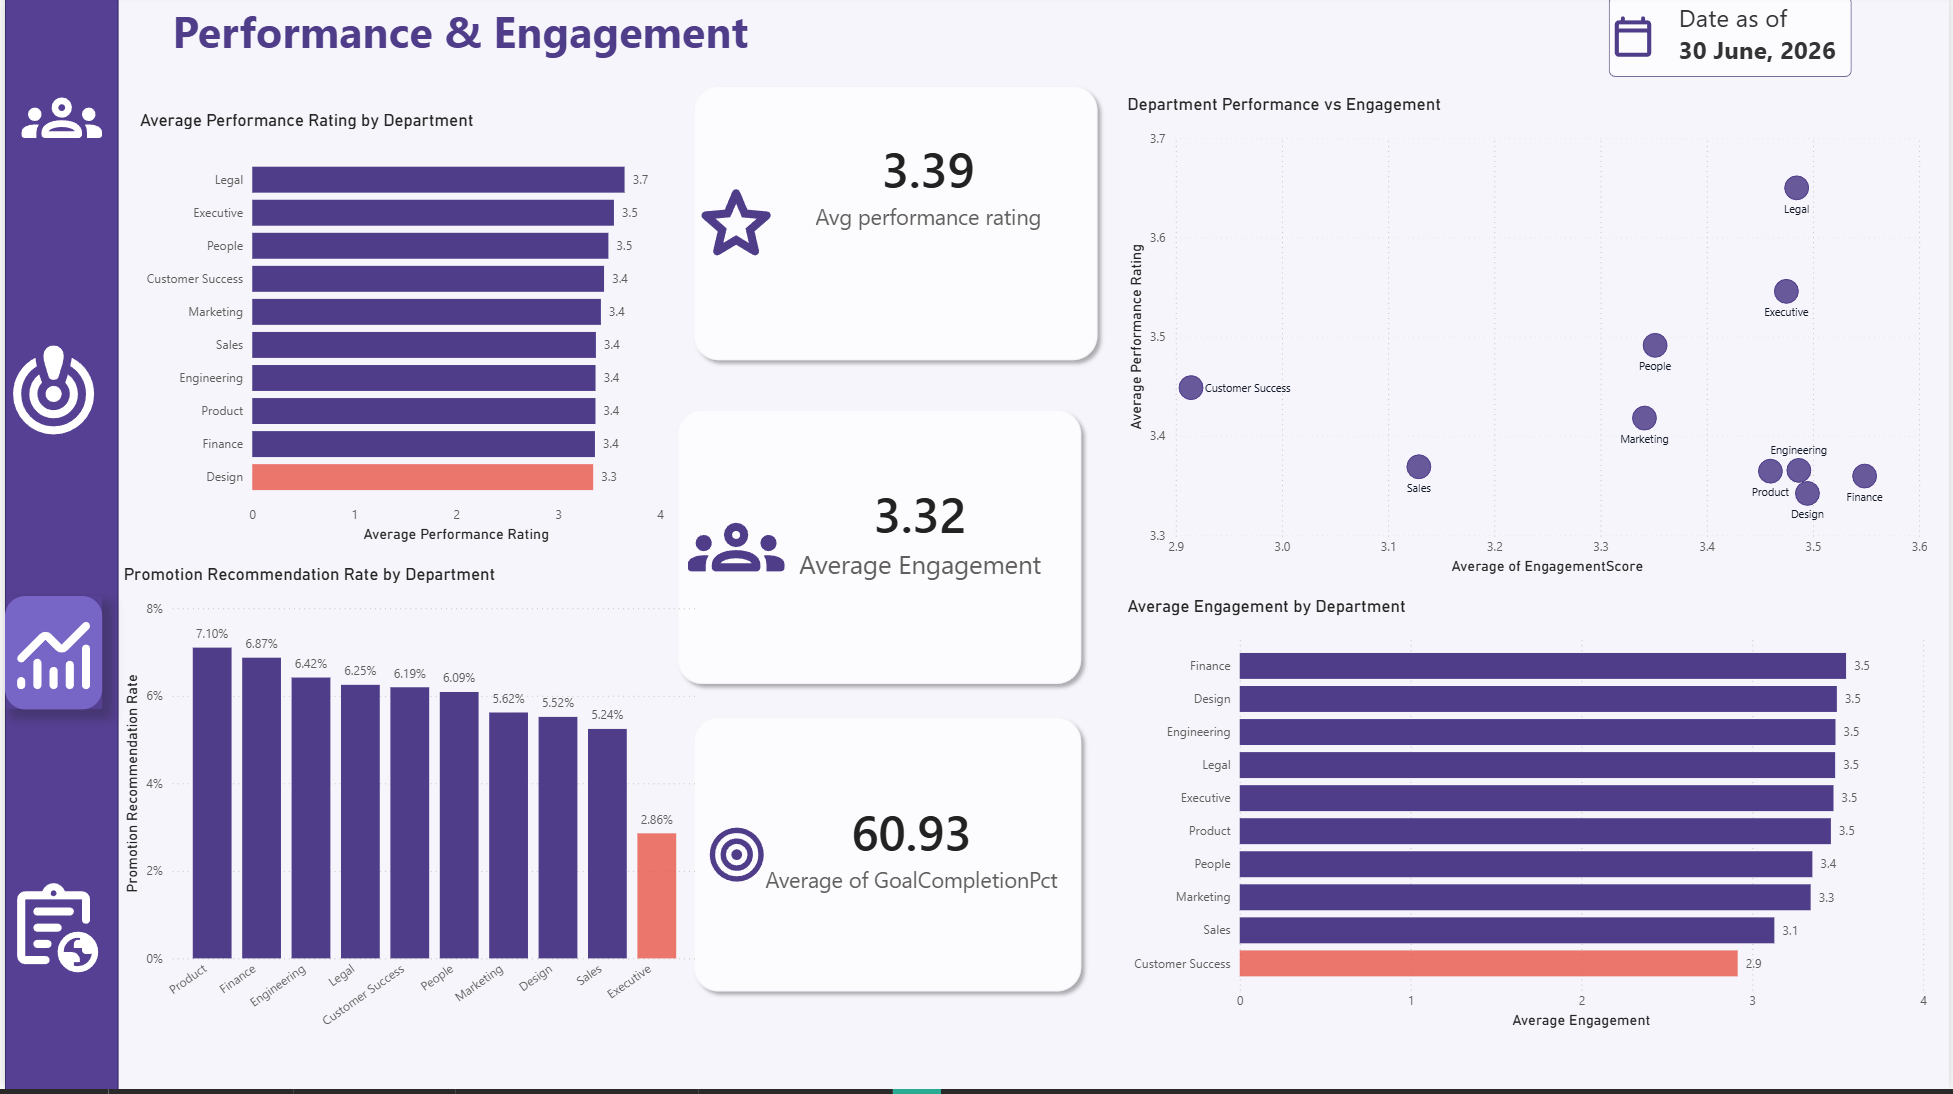

What the dashboard file says about the page in this screenshot:
{"tool":"powerbi","page":{"name":"Performance & Engagement","canvas":[1920,1080],"ordinal":2},"visuals":[{"type":"shape","box":[1584,0,240,80],"z":0,"group":"g2"},{"type":"shape","box":[672,704,400,288],"z":0},{"type":"image","box":[1568,16,80,48],"z":1000,"group":"g2"},{"type":"shape","box":[656,400,416,288],"z":1000},{"type":"textbox","box":[1648,0,176,80],"z":2000,"group":"g2"},{"type":"shape","box":[672,80,416,288],"z":2000},{"type":"image","box":[674.7,176,96,96],"z":3000},{"type":"clusteredBarChart","fields":{"Category":["Departments.Department"],"Y":["Dax_Measure.Average Performance Rating"]},"box":[128,112,528,432],"z":4000},{"type":"clusteredBarChart","fields":{"Category":["Departments.Department"],"Y":["Dax_Measure.Average Engagement"]},"box":[1104,592,800,432],"z":5000},{"type":"columnChart","fields":{"Category":["Departments.Department"],"Y":["Dax_Measure.Promotion Recommendation Rate"]},"box":[112,560,576,480],"z":6000},{"type":"cardVisual","fields":{"Data":["Dax_Measure.Average Performance Rating"]},"box":[768,112,288,144],"z":7000},{"type":"scatterChart","title":"Department Performance vs Engagement","fields":{"Series":["Employees.Department"],"X":["Avg(EngagementSurveys.EngagementScore)"],"Y":["Dax_Measure.Average Performance Rating"]},"box":[1104,96,800,480],"z":8000},{"type":"shape","box":[0,-8,112,1088],"z":9000,"group":"g1"},{"type":"cardVisual","fields":{"Data":["Dax_Measure.Average Engagement"]},"box":[752,432,304,192],"z":9000},{"type":"image","box":[0,336,96,112],"z":10000,"group":"g1"},{"type":"cardVisual","title":"Avg Goal Completion %","fields":{"Data":["Avg(PerformanceReviews.GoalCompletionPct)"]},"box":[720,736,352,208],"z":10000},{"type":"textbox","box":[160,0,592,96],"z":11000},{"type":"image","box":[0,592,96,112],"z":11000,"group":"g1"},{"type":"image","box":[16,64,80,112],"z":12000,"group":"g1"},{"type":"image","box":[682.7,816,80,64],"z":12000},{"type":"image","box":[674.7,496,96,96],"z":13000},{"type":"image","box":[0,864,96,112],"z":13000,"group":"g1"},{"type":"group","id":"g1","title":"Group 2","box":[0,-8,112,1088],"z":14000},{"type":"group","id":"g2","title":"Group 1","box":[1568,0,256,80],"z":15000}]}

Visuals, with their boxes on the page's 1920x1080 design canvas (x1, y1, x2, y2). These are canvas units, not pixel positions in the 1953x1094 screenshot, which may show the page scaled, cropped or inside an application window:
shape: box(1584, 0, 1824, 80)
shape: box(672, 704, 1072, 992)
image: box(1568, 16, 1648, 64)
shape: box(656, 400, 1072, 688)
textbox: box(1648, 0, 1824, 80)
shape: box(672, 80, 1088, 368)
image: box(675, 176, 771, 272)
clusteredBarChart - Departments.Department x Dax_Measure.Average Performance Rating: box(128, 112, 656, 544)
clusteredBarChart - Departments.Department x Dax_Measure.Average Engagement: box(1104, 592, 1904, 1024)
columnChart - Departments.Department x Dax_Measure.Promotion Recommendation Rate: box(112, 560, 688, 1040)
cardVisual - Dax_Measure.Average Performance Rating: box(768, 112, 1056, 256)
"Department Performance vs Engagement" scatterChart: box(1104, 96, 1904, 576)
shape: box(0, -8, 112, 1080)
cardVisual - Dax_Measure.Average Engagement: box(752, 432, 1056, 624)
image: box(0, 336, 96, 448)
"Avg Goal Completion %" cardVisual: box(720, 736, 1072, 944)
textbox: box(160, 0, 752, 96)
image: box(0, 592, 96, 704)
image: box(16, 64, 96, 176)
image: box(683, 816, 763, 880)
image: box(675, 496, 771, 592)
image: box(0, 864, 96, 976)
"Group 2" group: box(0, -8, 112, 1080)
"Group 1" group: box(1568, 0, 1824, 80)
